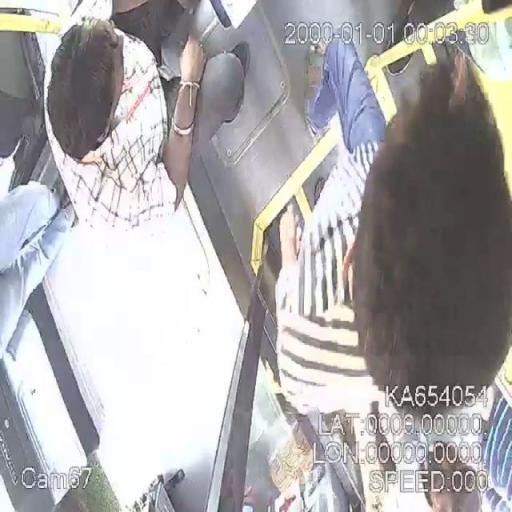persona: (276, 32, 512, 436), (32, 2, 250, 244)
